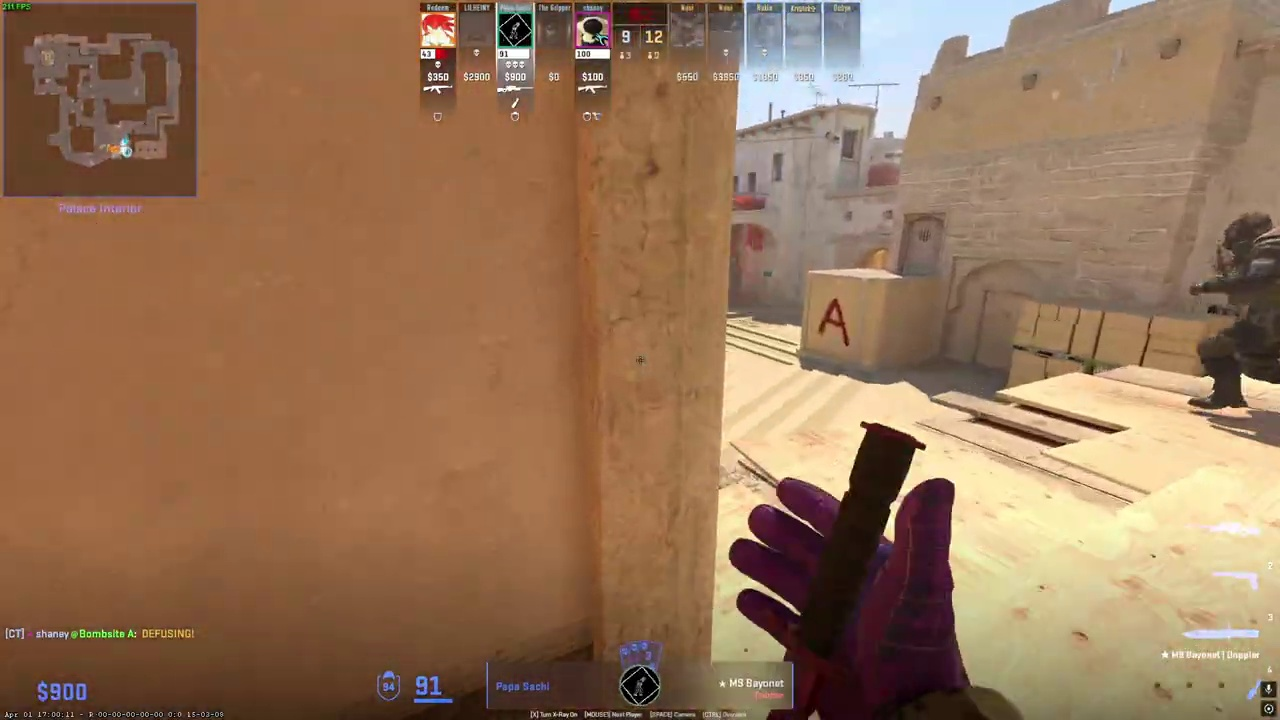CT: (1190, 213, 1280, 410)
